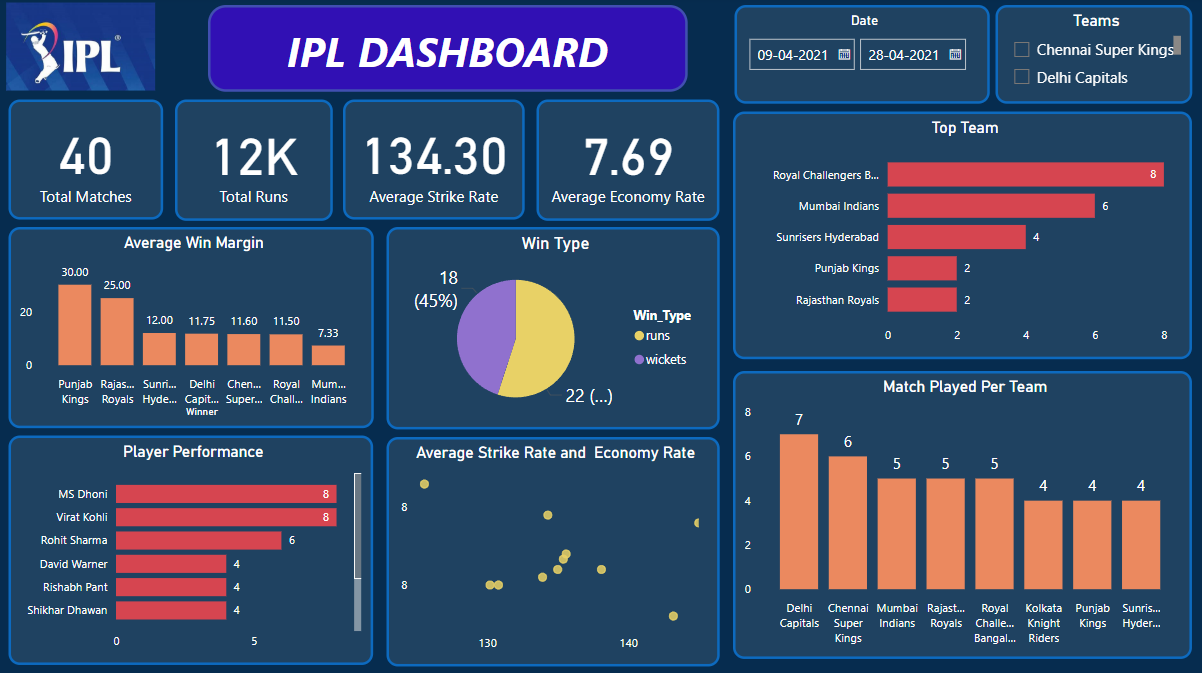

The page's visual inventory and layout, read from the dashboard file:
{"tool":"powerbi","page":{"name":"Page 1","canvas":[1280,720],"ordinal":0},"visuals":[{"type":"card","fields":{"Values":["IPL_Team.Total Matches"]},"box":[11.1,109.8,163.8,127.2],"z":0},{"type":"card","fields":{"Values":["Sum(IPL_Team.Total_Runs)"]},"box":[187.7,109.8,167,128.8],"z":1000},{"type":"image","box":[0,1.6,175,103.4],"z":2000},{"type":"card","fields":{"Values":["Avg(IPL_Team.Strike_Rate)"]},"box":[365.8,109.8,192.5,127.2],"z":3000},{"type":"card","fields":{"Values":["Avg(IPL_Team.Economy_Rate)"]},"box":[571,109.8,194.1,128.8],"z":4000},{"type":"clusteredBarChart","title":"Top Team","fields":{"Category":["IPL_Team.Winner"],"Y":["CountNonNull(IPL_Team.Match_ID)"]},"box":[779.4,122.5,486.7,262.5],"z":5000},{"type":"columnChart","title":"Match Played Per Team","fields":{"Category":["IPL_Team.Team"],"Y":["CountNonNull(IPL_Team.Match_ID)"]},"box":[779.4,397.7,486.7,305.4],"z":6000},{"type":"clusteredColumnChart","title":"Average Win Margin","fields":{"Category":["IPL_Team.Winner"],"Y":["Avg(IPL_Team.Win_Margin_No)"]},"box":[11.3,245.7,387.4,213.5],"z":7000},{"type":"pieChart","title":"Win Type","fields":{"Category":["IPL_Team.Win_Type"],"Y":["CountNonNull(IPL_Team.Match_ID)"]},"box":[412,245,353.1,214.7],"z":8000},{"type":"clusteredBarChart","title":"Player Performance","fields":{"Category":["IPL_Team.Player_of_Match"],"Y":["CountNonNull(IPL_Team.Match_ID)"]},"box":[11.1,466,386.5,243.4],"z":9000},{"type":"scatterChart","title":"Average Strike Rate and  Economy Rate","fields":{"X":["Avg(IPL_Team.Strike_Rate)"],"Y":["Avg(IPL_Team.Economy_Rate)"],"Category":["IPL_Team.Total_Runs"]},"box":[412,467.6,353.1,243.4],"z":10000},{"type":"slicer","title":"Date","fields":{"Values":["IPL_Team.Date"]},"box":[781,9.5,270.4,105],"z":11000},{"type":"slicer","title":"Teams","fields":{"Values":["IPL_Team.Winner"]},"box":[1057.8,9.5,208.4,105],"z":12000},{"type":"textbox","box":[222.7,9.5,509,92.3],"z":14000}]}

Visuals, with their boxes in screenshot pixels (x1, y1, x2, y2), scaled from the page's 1280x720 canvas onto the 1202x673 screenshot:
card - IPL_Team.Total Matches: <box>10,103,164,222</box>
card - Sum(IPL_Team.Total_Runs): <box>176,103,333,223</box>
image: <box>0,1,164,98</box>
card - Avg(IPL_Team.Strike_Rate): <box>344,103,524,222</box>
card - Avg(IPL_Team.Economy_Rate): <box>536,103,718,223</box>
"Top Team" clusteredBarChart: <box>732,115,1189,360</box>
"Match Played Per Team" columnChart: <box>732,372,1189,657</box>
"Average Win Margin" clusteredColumnChart: <box>11,230,374,429</box>
"Win Type" pieChart: <box>387,229,718,430</box>
"Player Performance" clusteredBarChart: <box>10,436,373,663</box>
"Average Strike Rate and  Economy Rate" scatterChart: <box>387,437,718,665</box>
"Date" slicer: <box>733,9,987,107</box>
"Teams" slicer: <box>993,9,1189,107</box>
textbox: <box>209,9,687,95</box>
